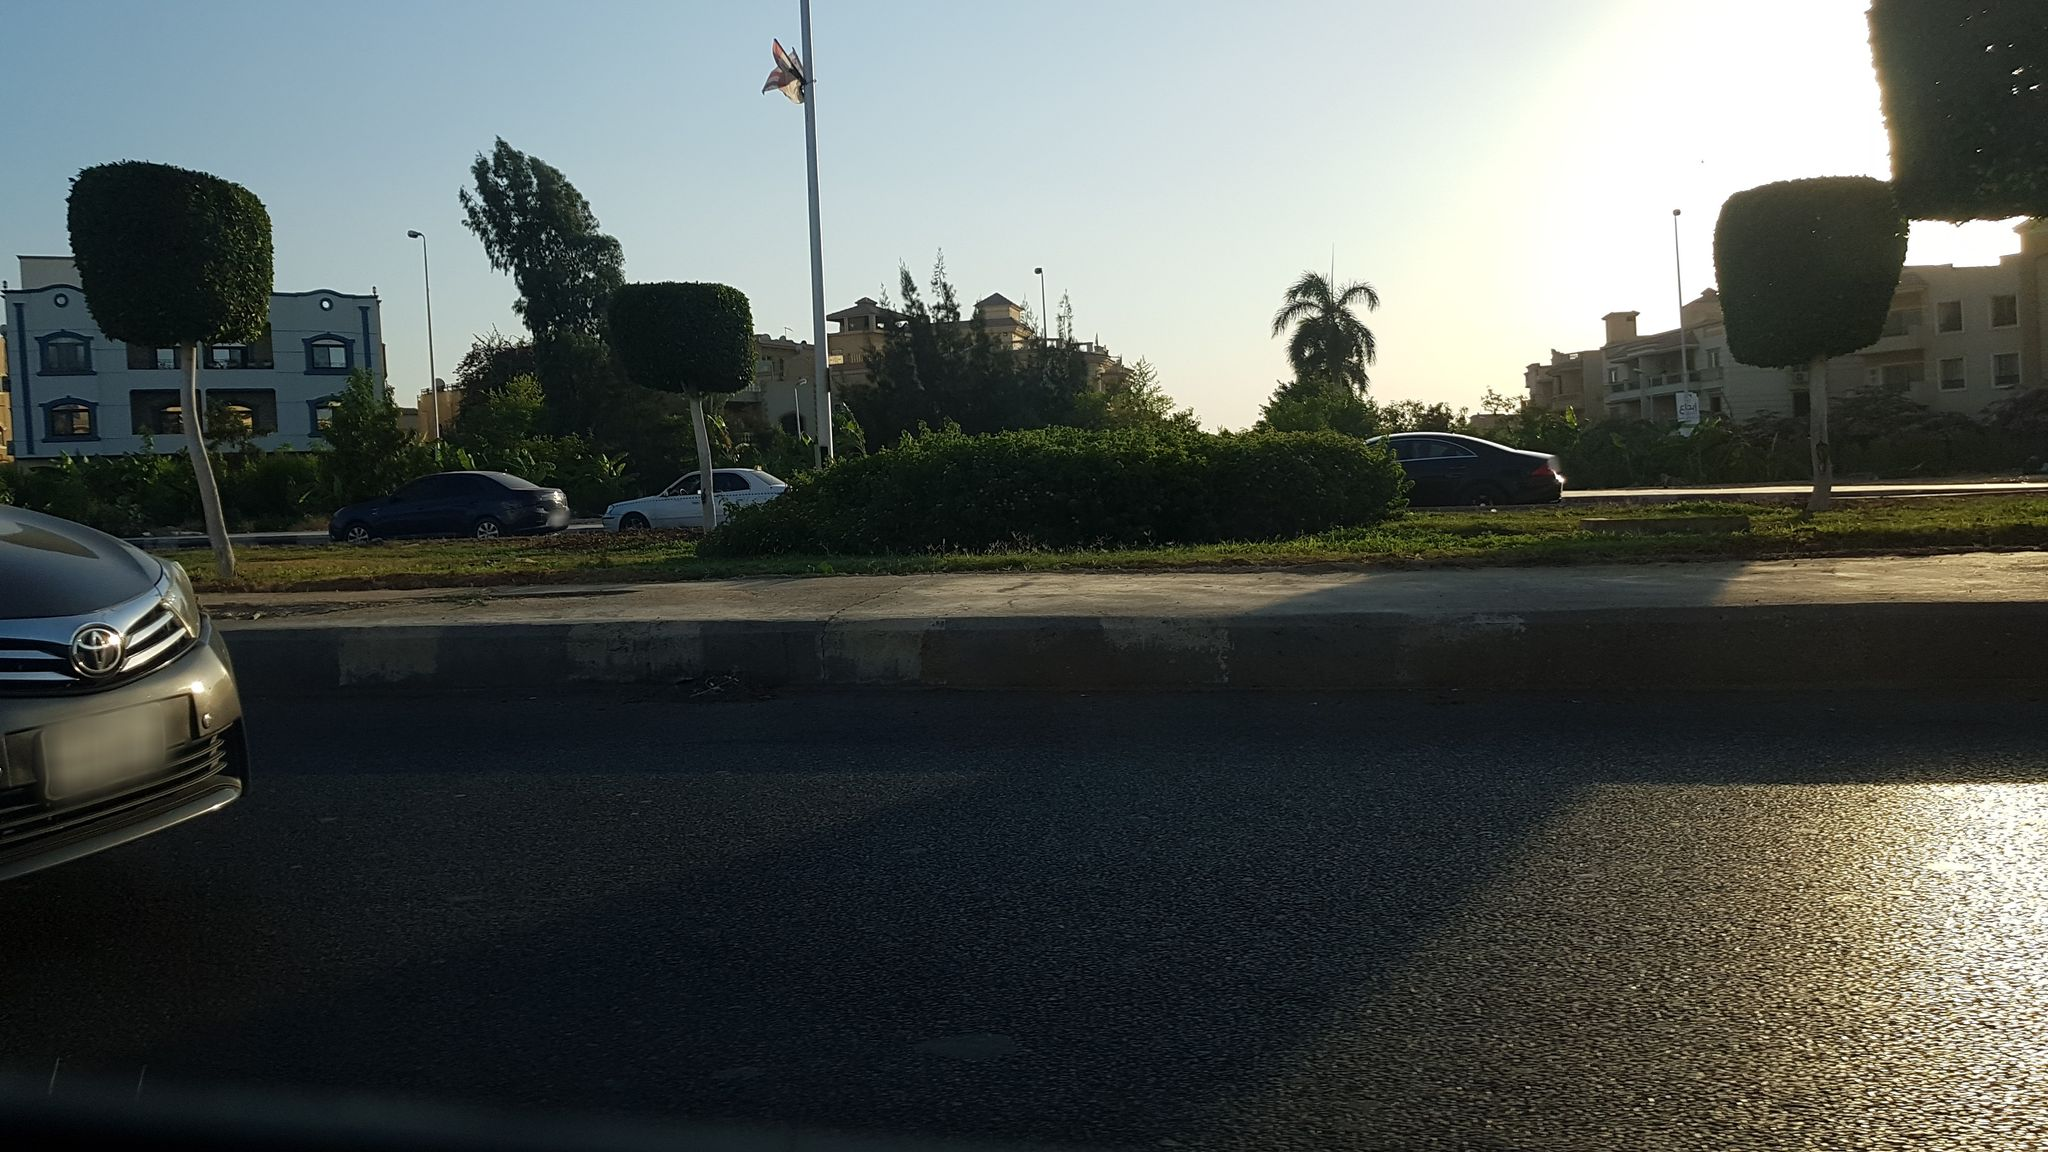car: (0, 494, 260, 875), (326, 468, 571, 537), (1362, 430, 1566, 504), (602, 466, 791, 527)
